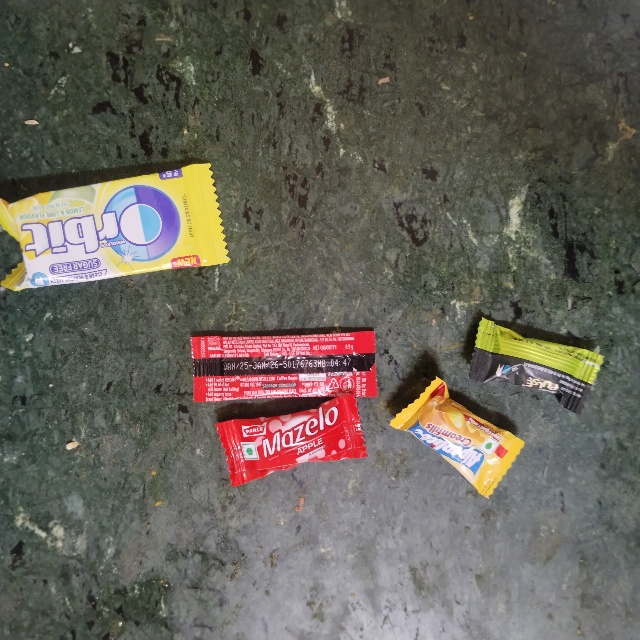Alpenlibe Creamfills: (392, 425, 457, 549)
Mazelo: (221, 428, 351, 494)
Nescafe Coffee: (184, 333, 377, 406)
Orbit: (0, 203, 215, 296)
Pulse: (474, 319, 612, 390)
